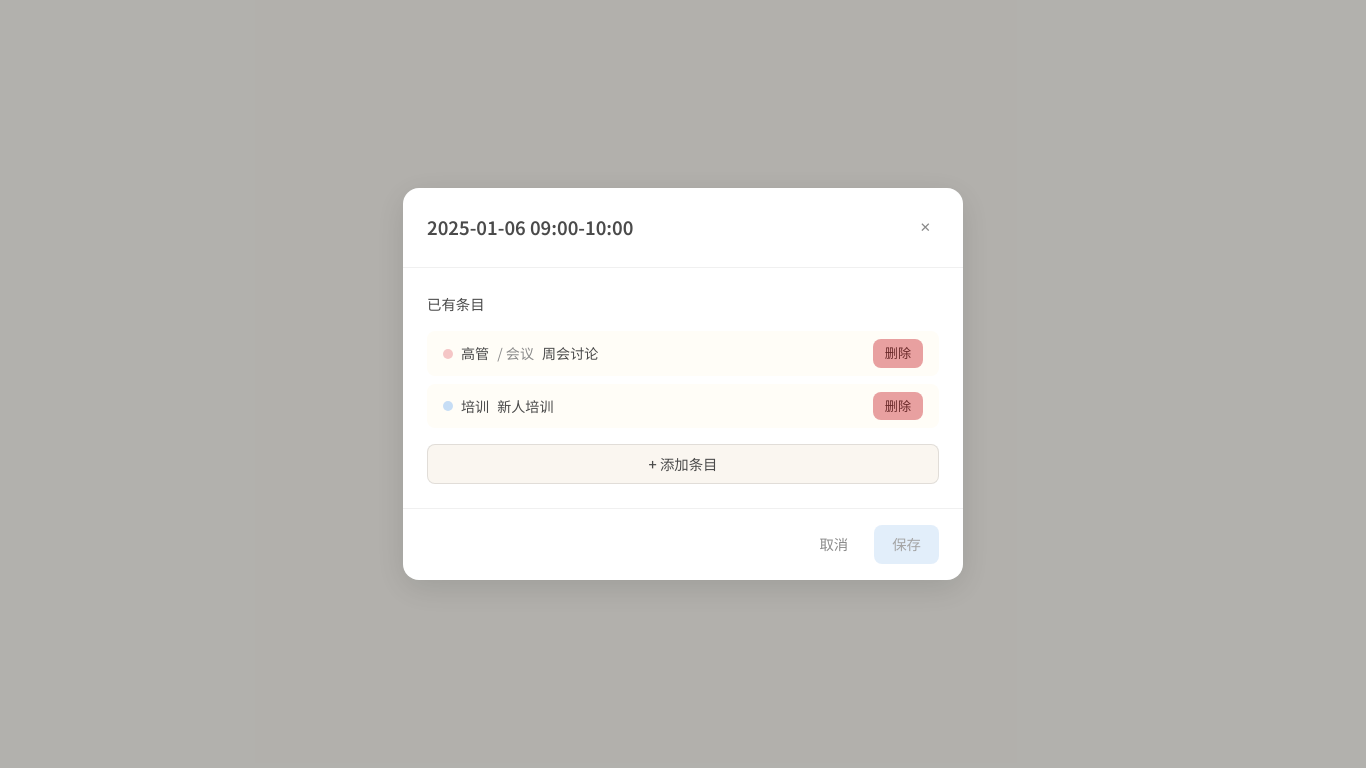
WorkEntryModal › shows add form when clicking 添加条目
Click the button "+ 添加条目": (683, 464) [427,444,939,484]
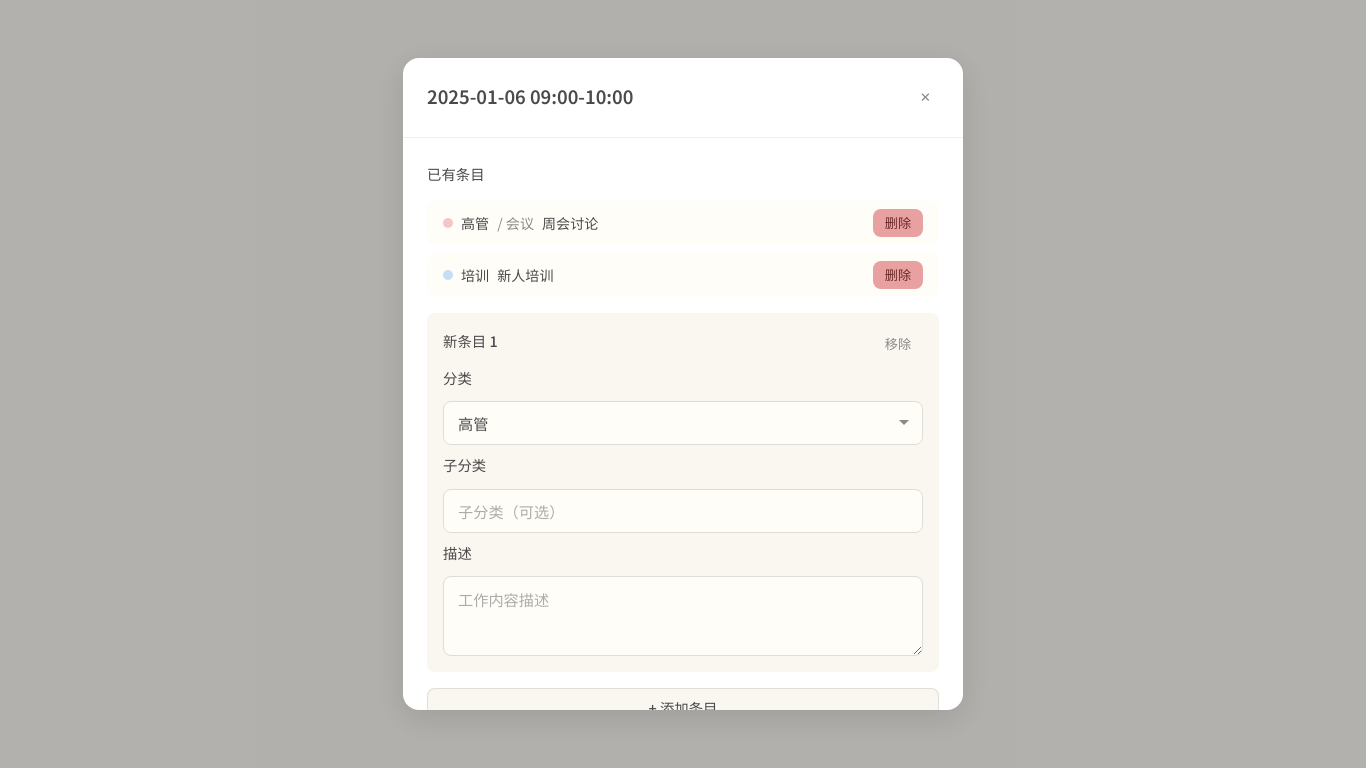
Expected: the text "新条目 1" is shown, [443,329,498,352]
Expected: the dropdown is shown, [443,402,923,446]
Expected: the field with placeholder "子分类（可选）" is shown, [443,488,923,532]
